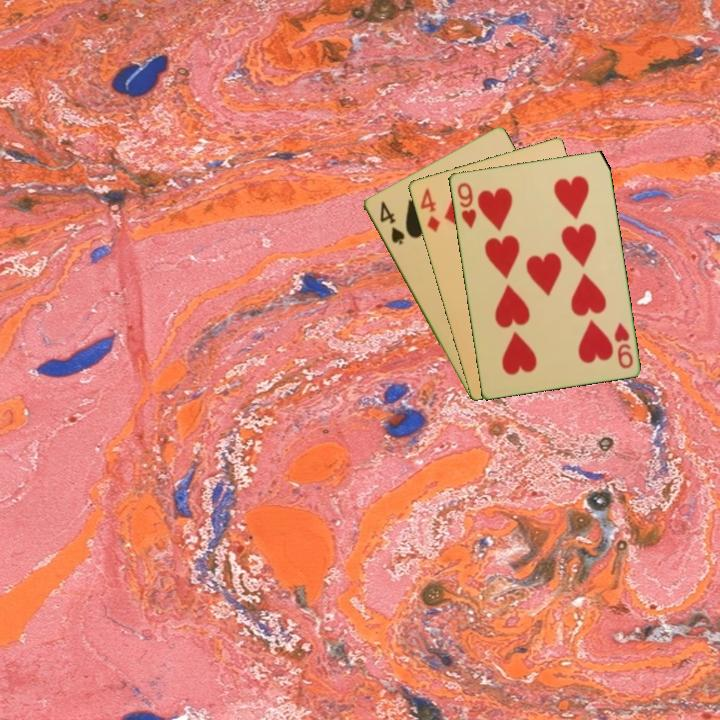4d: (416, 184, 443, 235)
4s: (376, 197, 407, 247)
9h: (453, 179, 479, 231), (610, 319, 636, 371)
